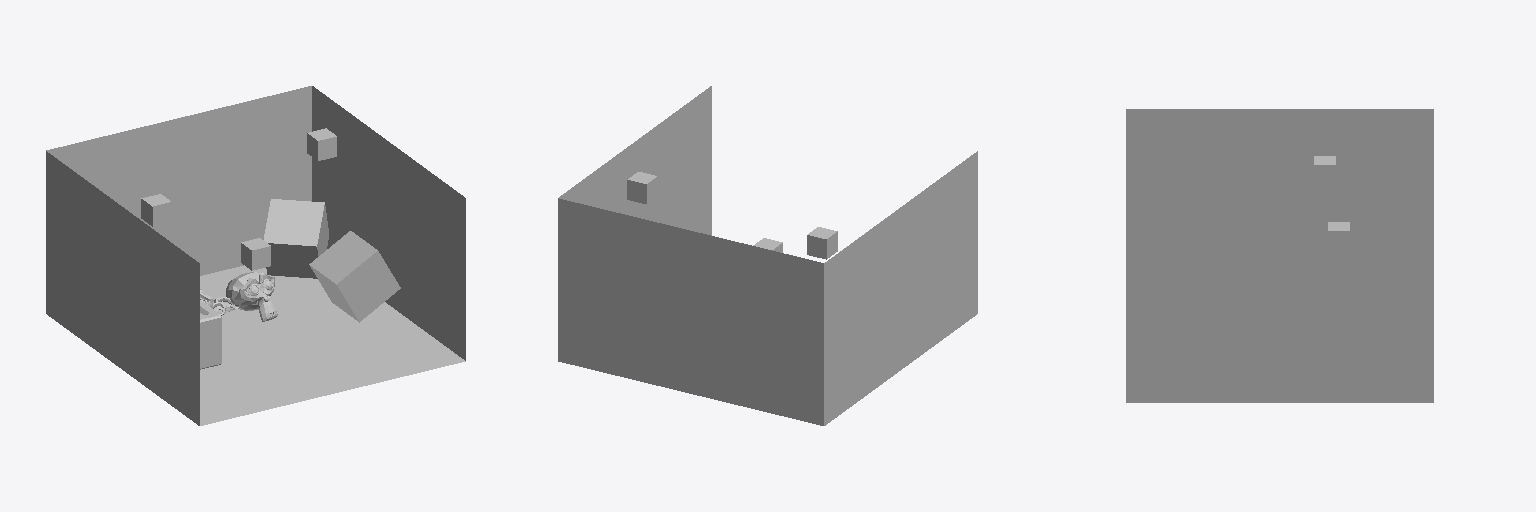
3 renders of one model, left to right at view 1: azimuth 30°, elevation 25°; view 2: azimuth 150°, elevation 25°; view 3: azimuth 270°, elevation 25°, orthographic.
Parts seen in each view (by area): view 1: Plane, Cube_Cube.001, Cube.001_Cube.002, Suzanne, Cube.002_Cube.003, Cube.004_Cube.005, Cube.003_Cube.004, Cube.005_Cube.006; view 2: Plane, Cube.005_Cube.006, Cube.004_Cube.005; view 3: Plane, Cube.004_Cube.005.
Boxes of the visible parts, <box> form: Plane: <box>46,86,465,425</box>; Cube_Cube.001: <box>309,231,400,322</box>; Cube.001_Cube.002: <box>264,199,328,278</box>; Suzanne: <box>214,272,277,321</box>; Cube.002_Cube.003: <box>200,300,221,369</box>; Cube.004_Cube.005: <box>141,194,171,226</box>; Cube.003_Cube.004: <box>241,238,270,270</box>; Cube.005_Cube.006: <box>307,128,336,160</box>; Plane: <box>558,86,977,425</box>; Cube.005_Cube.006: <box>627,172,657,203</box>; Cube.004_Cube.005: <box>807,227,837,259</box>; Plane: <box>1126,109,1433,402</box>; Cube.004_Cube.005: <box>1314,156,1335,184</box>.
Size of the model in its own units: 11.22 by 6.56 by 11.22.